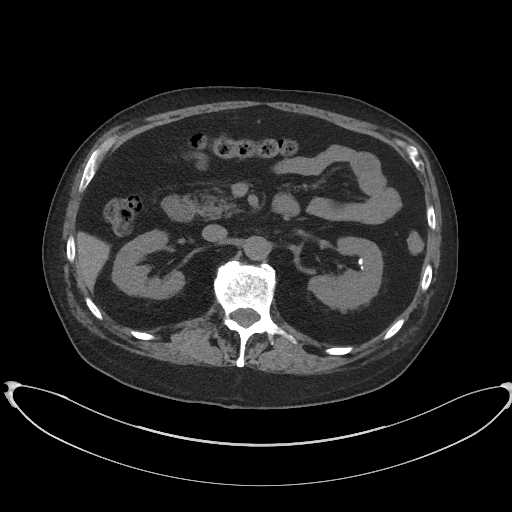Lesion: (354, 255, 366, 271)
